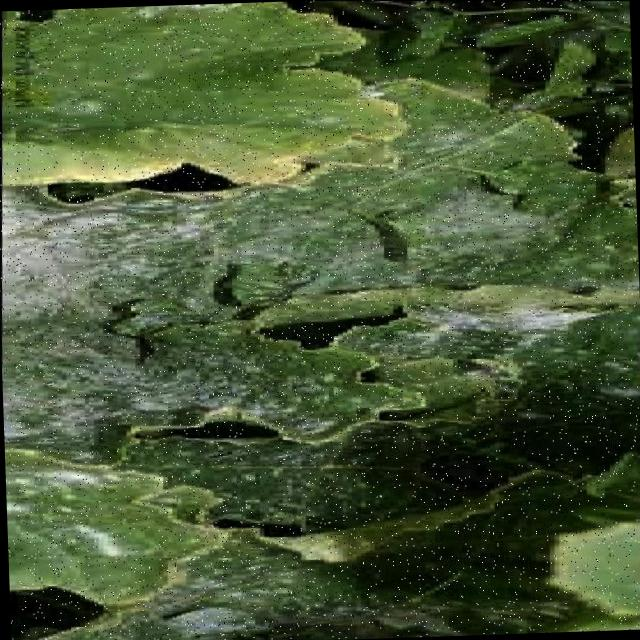Powdery_mildew_on_lettuce: (4, 169, 615, 482)
